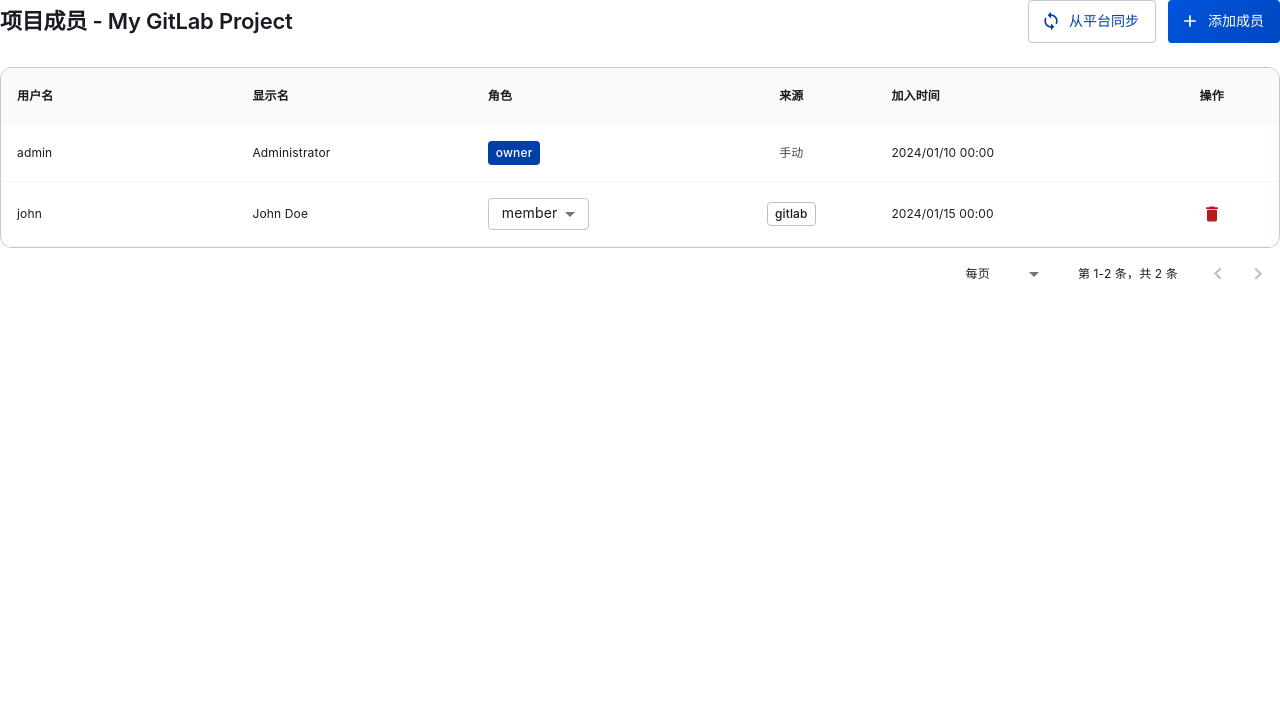
Test case: ProjectMembersPage › remove member confirms and removes
The width and height of the screenshot is (1280, 720).
Check: the text "john" is shown, box [1,181,236,246]
Click the button named "移除成员 John Doe" at (1212, 214), box [1197,198,1227,228]
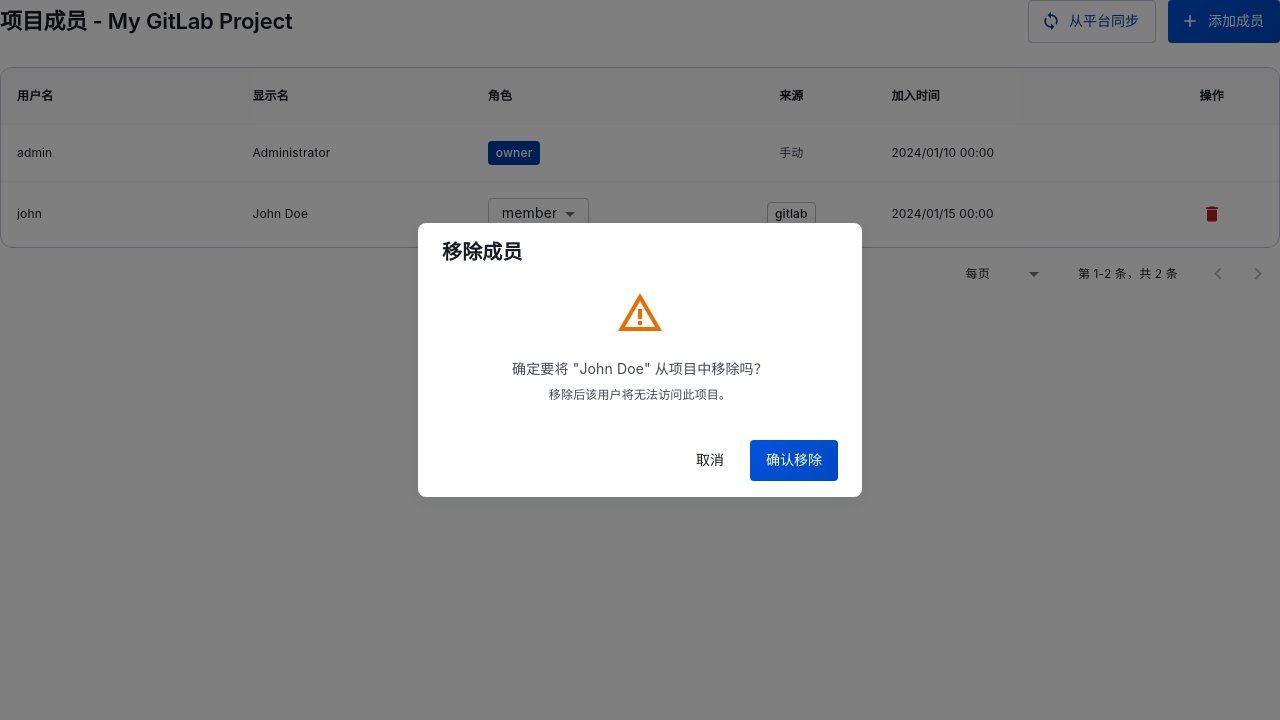
Check: the button "确认移除" is shown
Click the button "确认移除" at (794, 461), box [750,440,838,481]
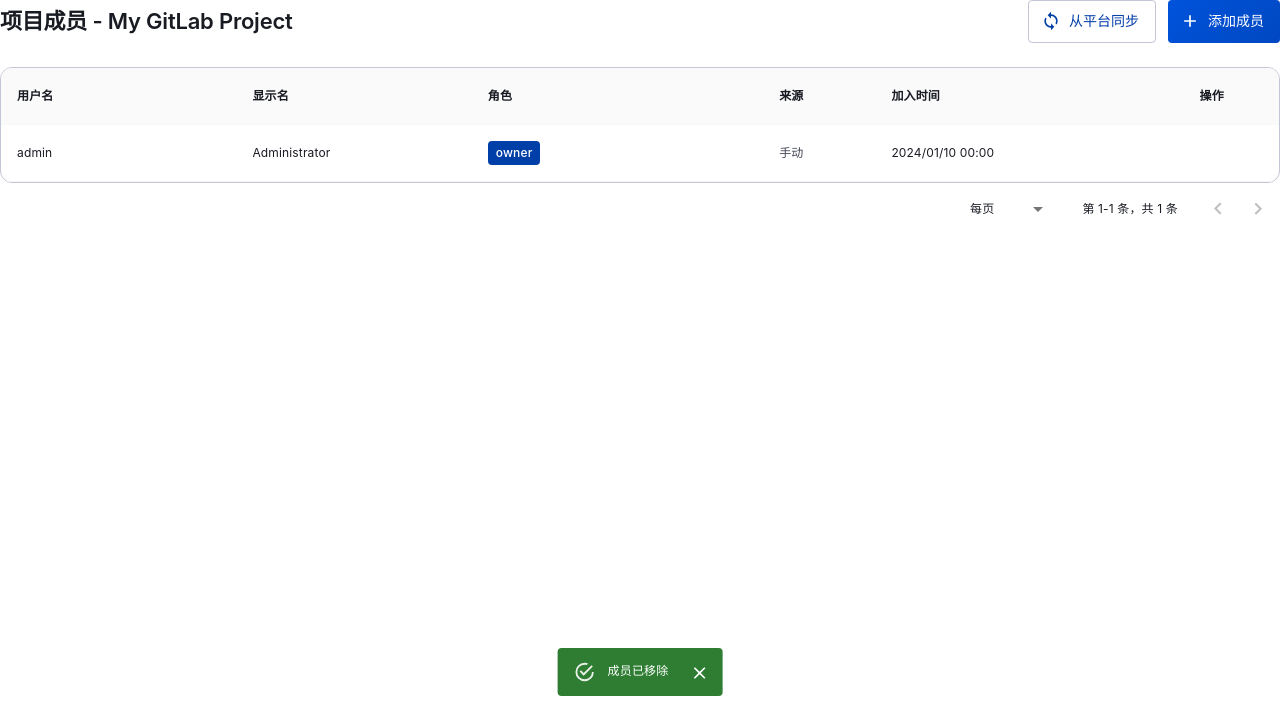
Check: the text "成员已移除" is shown, box [608,663,668,678]
